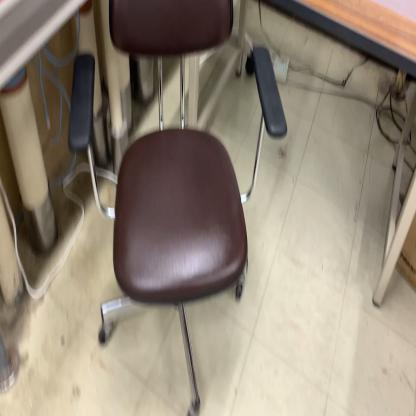chair: (67, 2, 288, 416)
